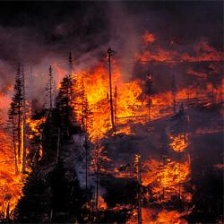fire: (59, 56, 146, 137), (133, 159, 189, 224), (1, 107, 31, 219)
